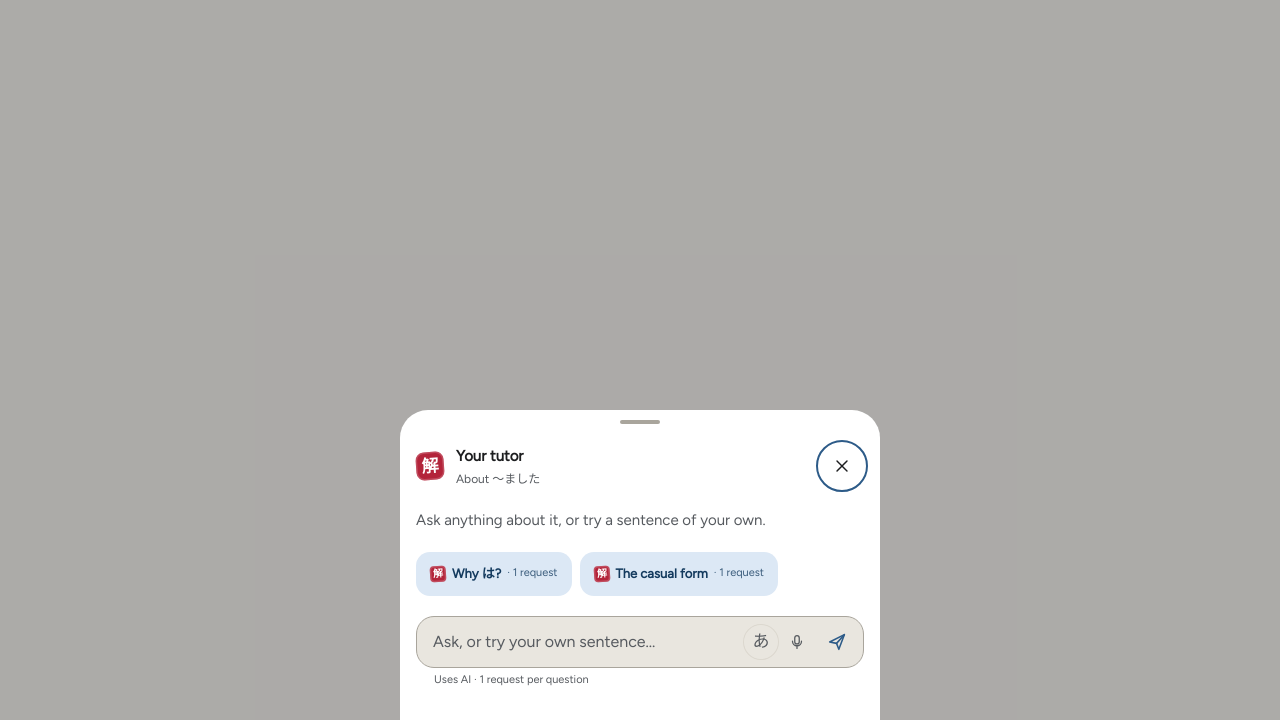
TutorSheet › keeps every turn and sends the earlier answers with the next question
Click the button with aria-label "Why は?, ": (494,574) left=416, top=552, right=572, bottom=596
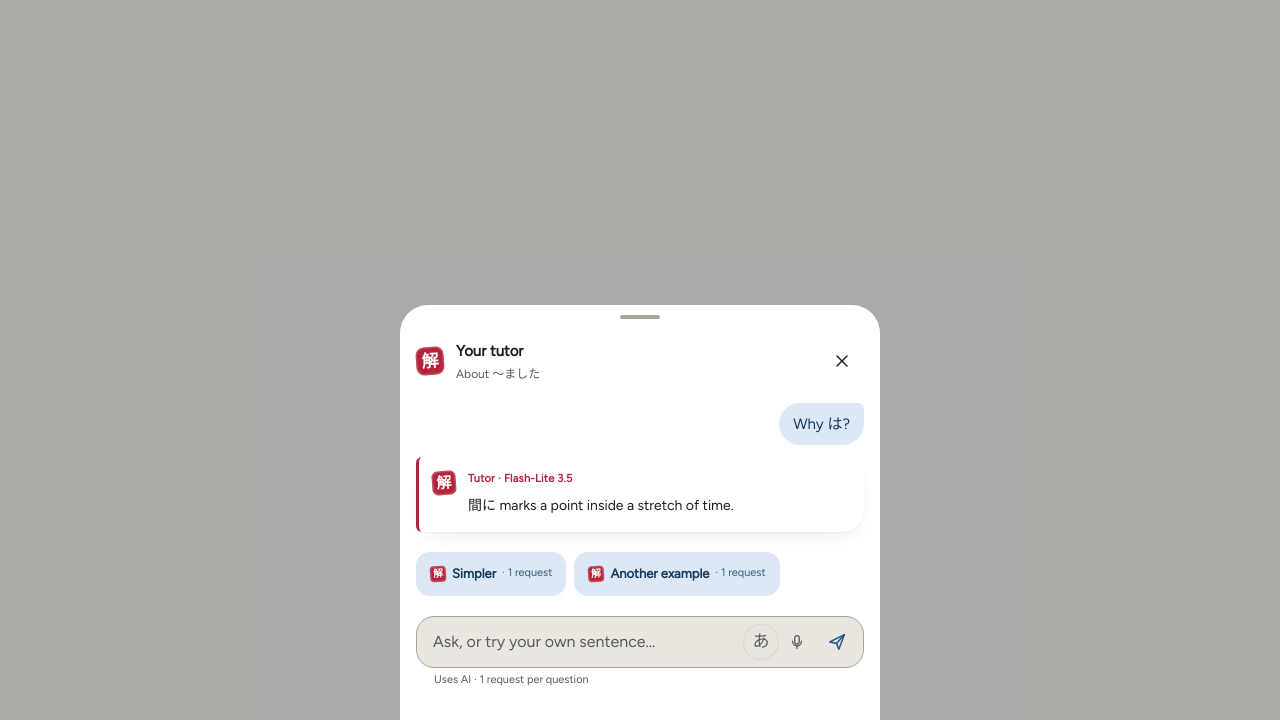
expect the element named "Answer" is shown: met, box left=416, top=457, right=864, bottom=532
In the field named "Ask the tutor": (586,642) left=433, top=616, right=739, bottom=666, type "And casually?"
Then press Enter
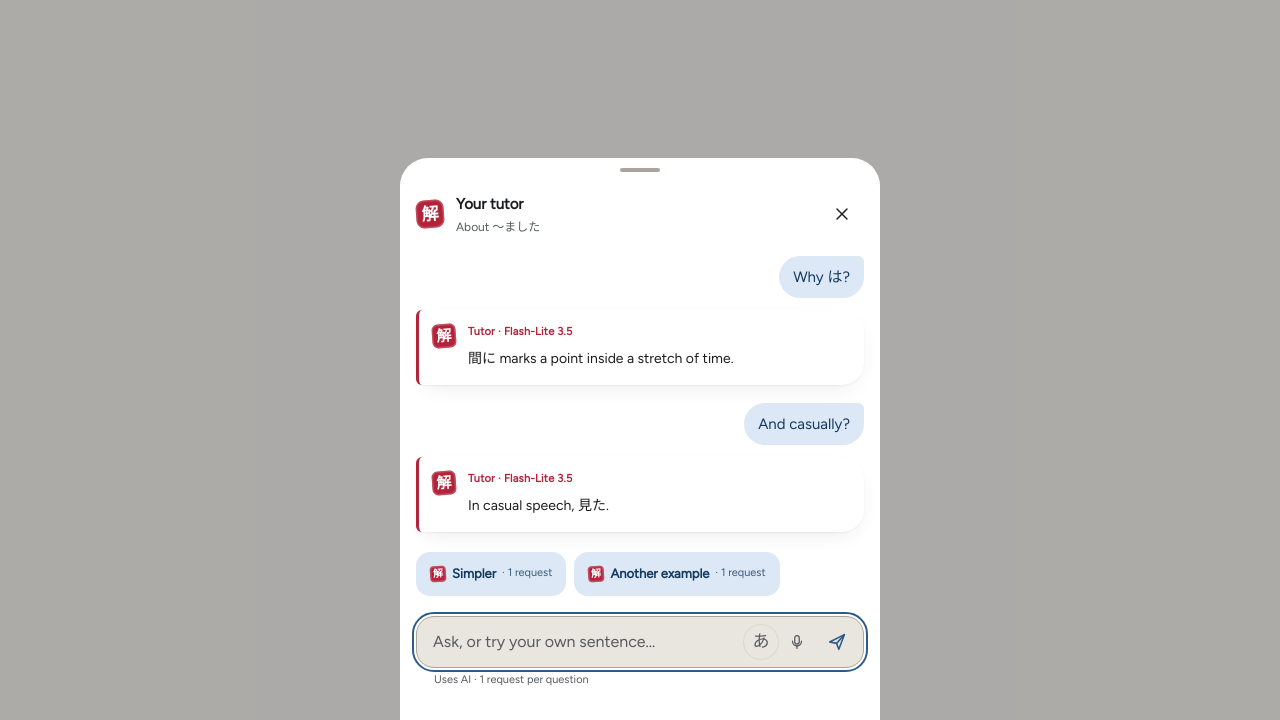
expect the button with aria-label "Simpler, 1 request, uses AI" is shown: met, box left=416, top=552, right=566, bottom=596
expect the text "In casual speech," is shown: met, box left=468, top=497, right=578, bottom=514
expect the number of elements named "Answer" is 2: met, box left=416, top=310, right=864, bottom=384; left=416, top=457, right=864, bottom=532
